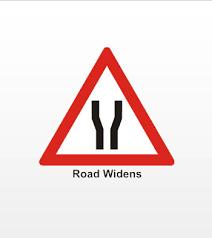Road Wideness Ahead: (30, 38, 206, 171), (56, 47, 176, 161)
